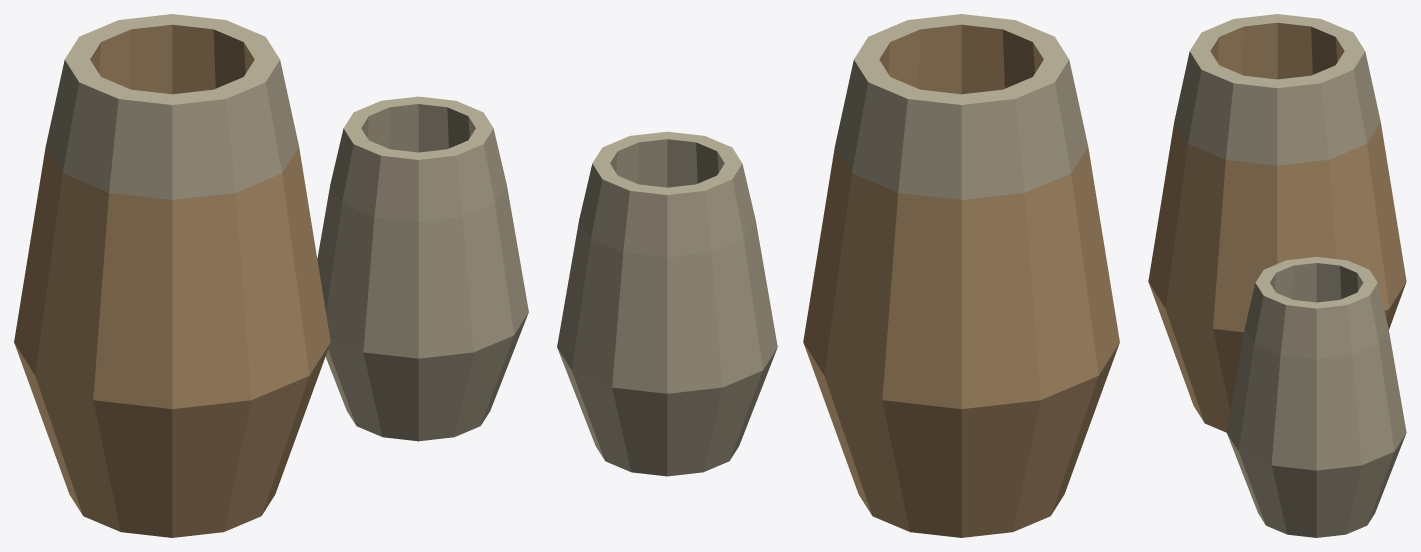
Rendered from urn-pair.glb.
3 renders of one model, left to right at view 1: azimuth 30°, elevation 25°; view 2: azimuth 150°, elevation 25°; view 3: azimuth 270°, elevation 25°, orthographic. The views are drawn at different scales.
Visible parts, largest first — view 1: urn-pair__body; view 2: urn-pair__body; view 3: urn-pair__body.
Boxes of the visible parts, x1,y1,x2,y2 form: urn-pair__body: [14, 14, 528, 537]; urn-pair__body: [557, 14, 1119, 537]; urn-pair__body: [1148, 14, 1406, 537].
Size of the model in its own units: 1.21 by 1 by 0.66.
